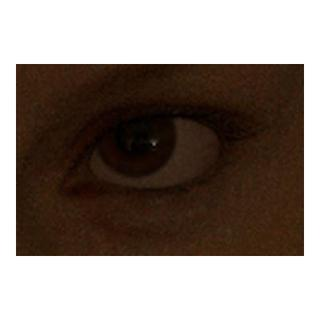pupil: (116, 117, 153, 155)
